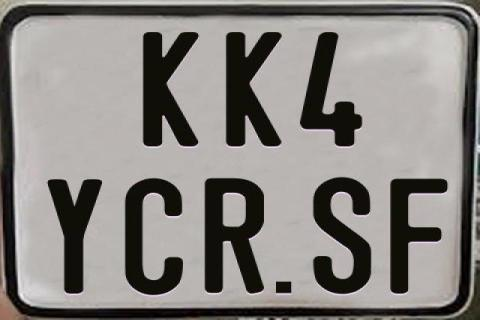0: (297, 30, 364, 148)
C: (125, 178, 185, 300)
F: (387, 179, 450, 297)
K: (226, 32, 288, 146), (142, 32, 200, 148)
R: (203, 177, 265, 293)
S: (310, 176, 371, 295)
Y: (44, 177, 102, 296)
